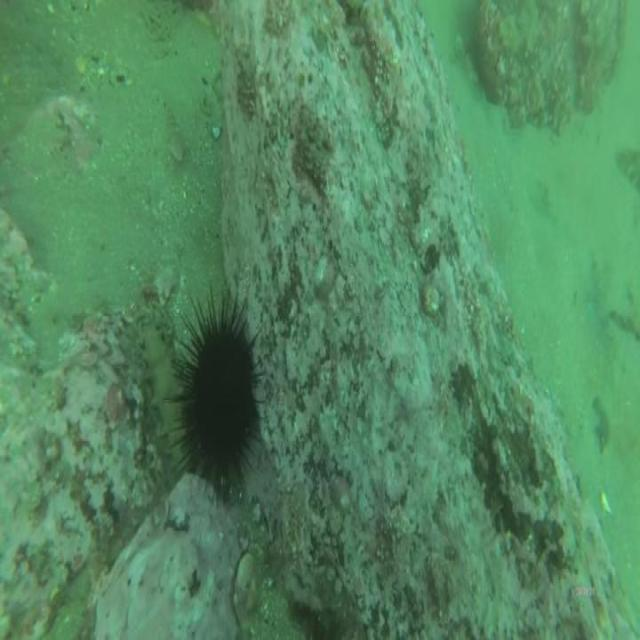echinus: (174, 302, 260, 510)
holothurian: (138, 308, 188, 477)
